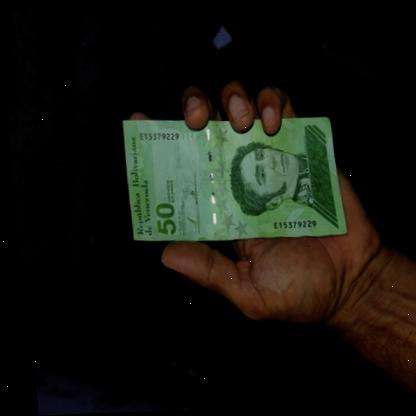fifty-front-vef: (115, 102, 344, 254)
